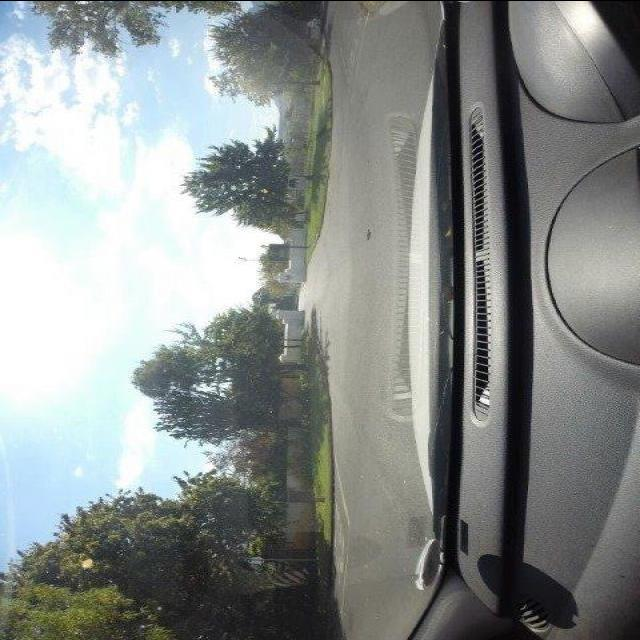lubang: (359, 221, 374, 242)
